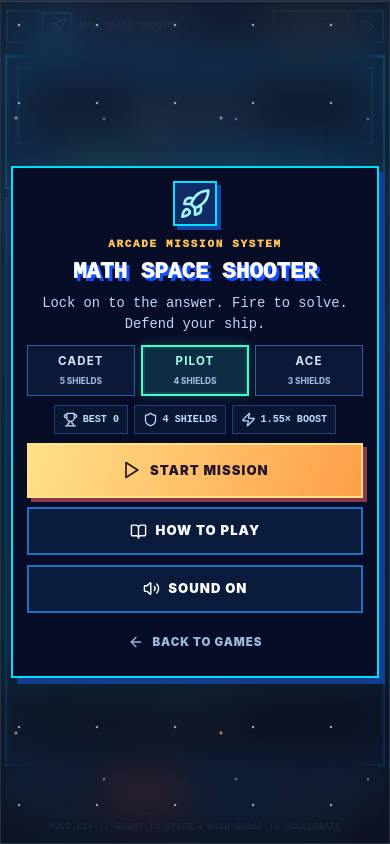
Test: Math Space Shooter mission › shows a working mission briefing, difficulty picker, instructions, sound and exit controls
Click the button with test id "space-difficulty-hard".
click(309, 370)  # box [255,345,363,396]
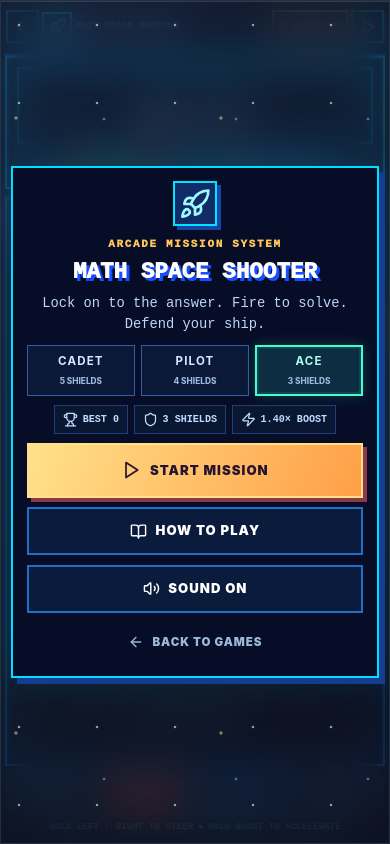
Expected: the button with test id "space-difficulty-hard" is pressed, [255,345,363,396]
Click the button "HOW TO PLAY".
click(195, 531)  # box [27,507,363,555]
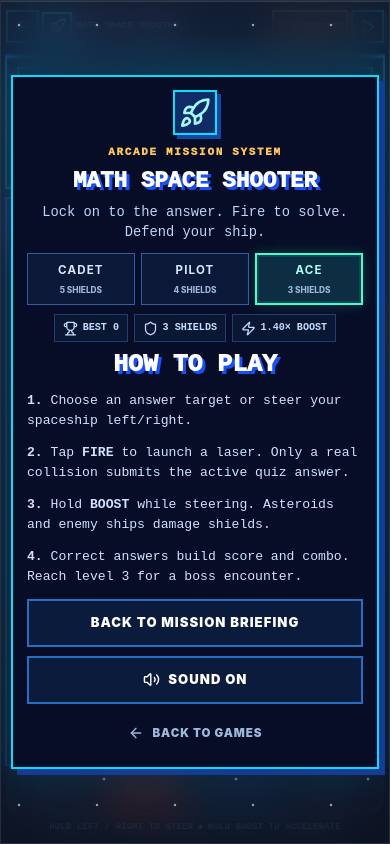
Expected: the heading "HOW TO PLAY" is shown, [113,350,277,378]
Expected: the text "Only a real collision submits" is shown, [27,445,357,480]
Click the button "BACK TO MISSION BRIEFING".
click(195, 623)  # box [27,599,363,647]
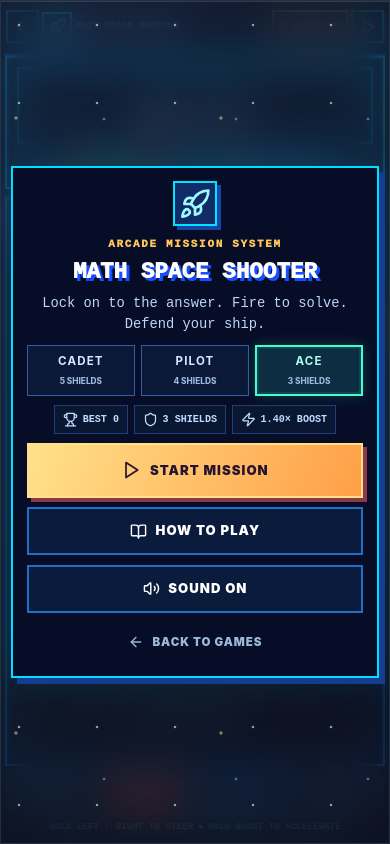
Click the button "SOUND ON".
click(195, 588)  # box [27,564,363,612]
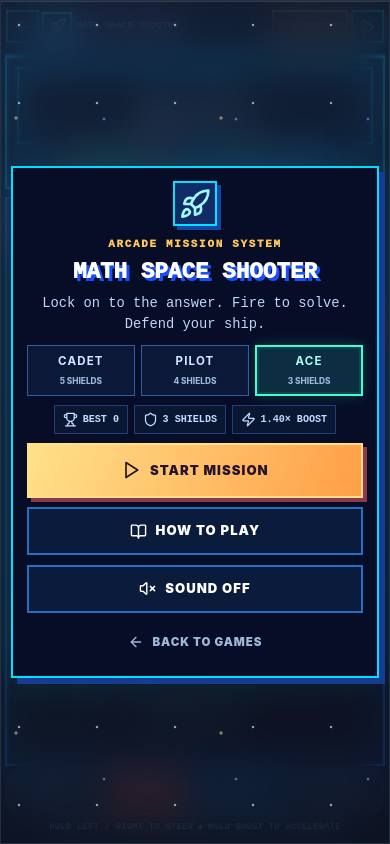
Expected: the button "SOUND OFF" does not have attribute aria-pressed="true"
Click the button "SOUND OFF".
click(195, 588)  # box [27,564,363,612]
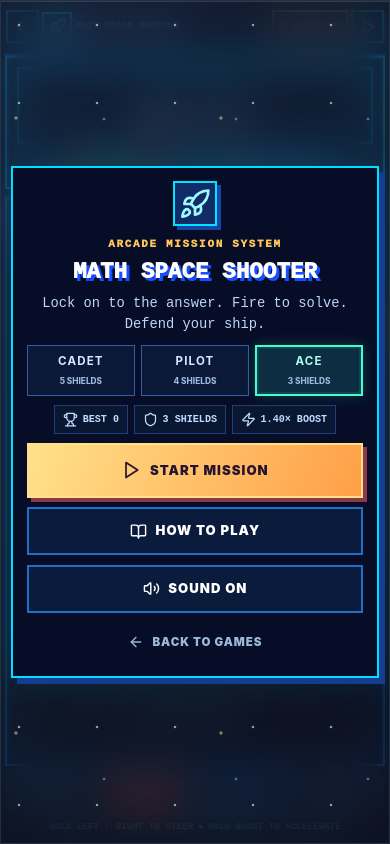
Expected: the button "SOUND ON" is pressed, [27,564,363,612]
Click the button with test id "space-start-mission".
click(195, 470)  # box [27,443,363,498]
Wait 2750 ms
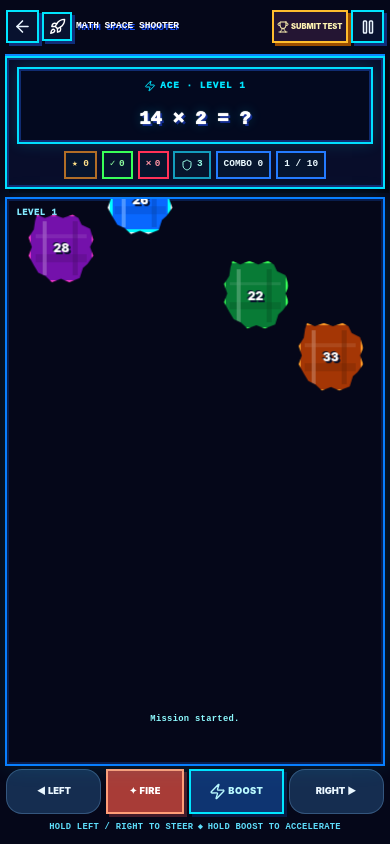
Expected: the button with test id "space-control-fire" is enabled, [106,769,184,814]
